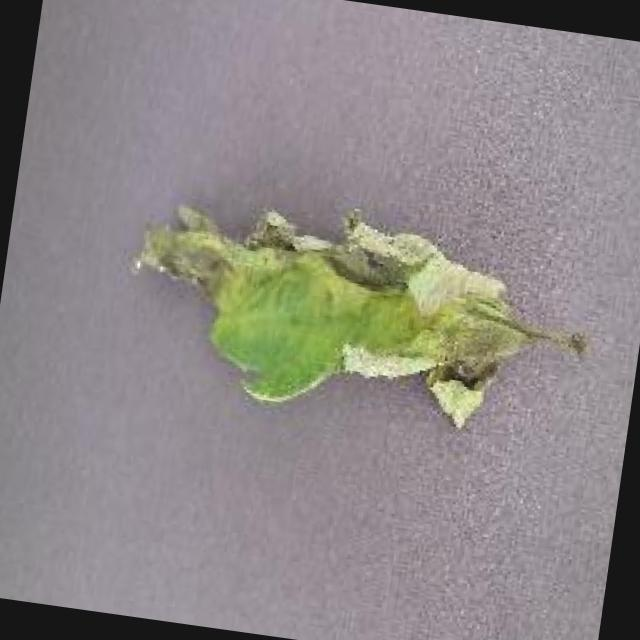leaf blight: (136, 200, 578, 436)
